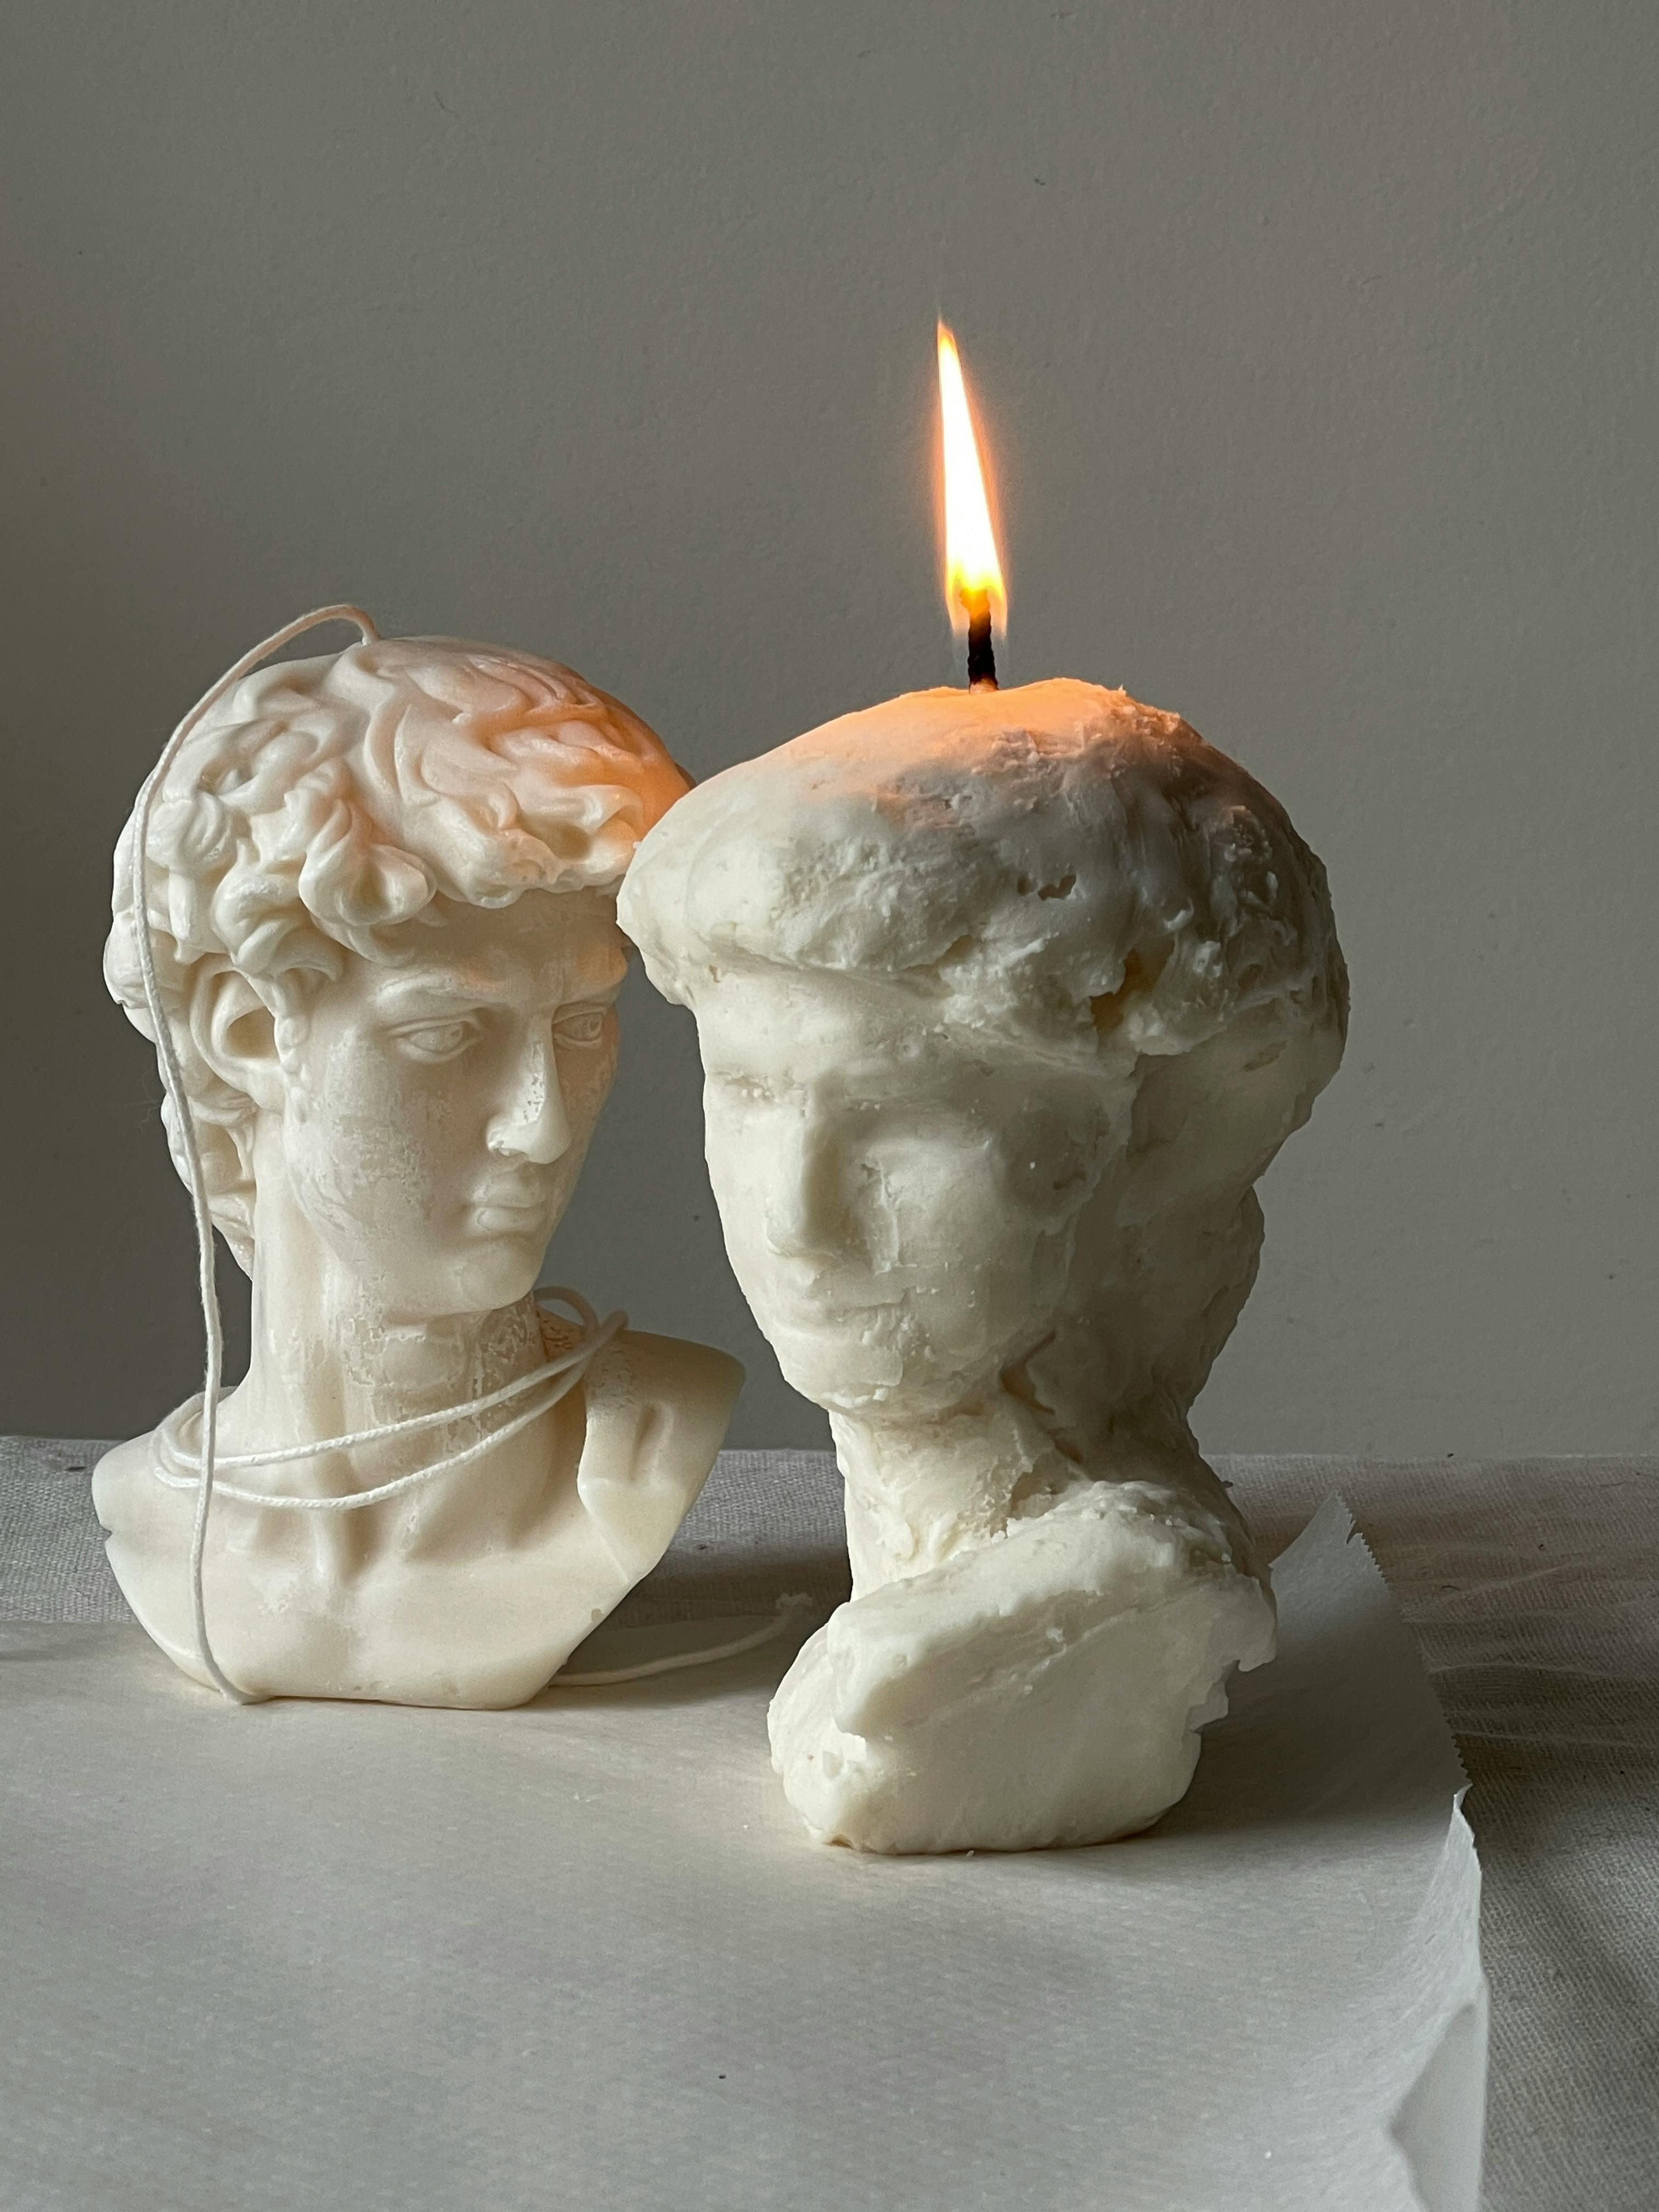Fire: (906, 303, 1047, 653)
